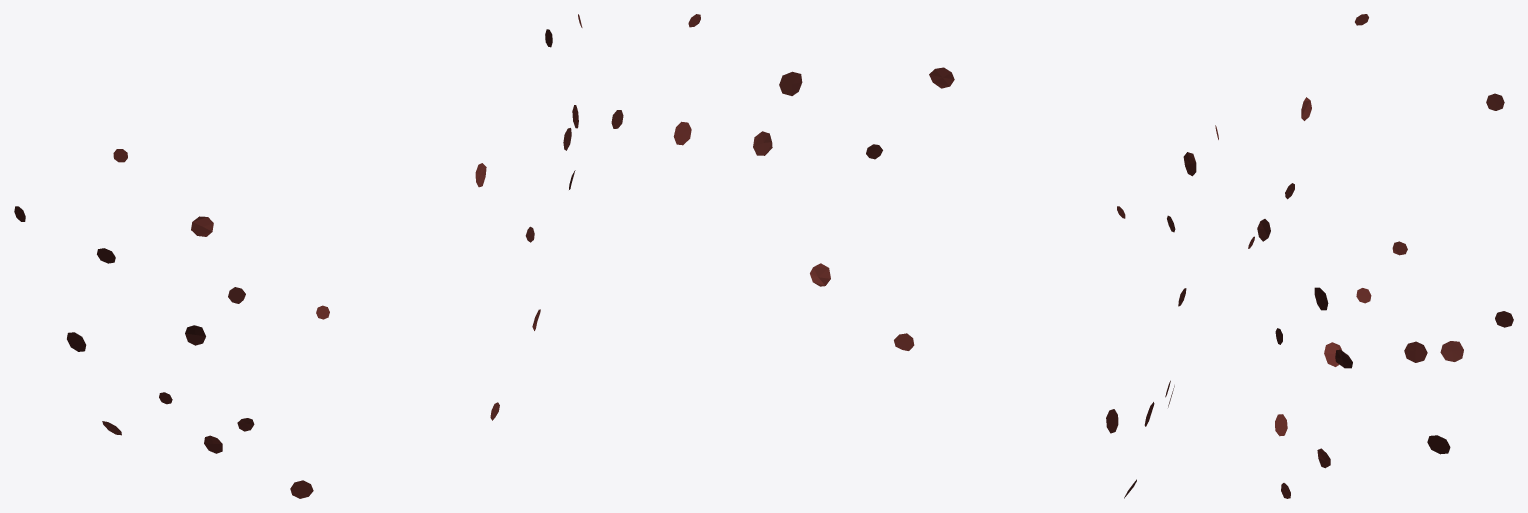
The model's file is miscPocksFemale.glb.
3 views of the same model, side by side, from view 1: azimuth 30°, elevation 25°; view 2: azimuth 150°, elevation 25°; view 3: azimuth 270°, elevation 25° (orthographic). The views are drawn at different scales.
Visible parts, largest first — view 1: miscPocksFemale; view 2: miscPocksFemale; view 3: miscPocksFemale.
Boxes of the visible parts, x1,y1,x2,y2 form: miscPocksFemale: (14, 14, 582, 498); miscPocksFemale: (611, 14, 1218, 498); miscPocksFemale: (1248, 14, 1513, 498).
Bounding box in the file's own units: 0.1772 × 0.1135 × 0.0764.
